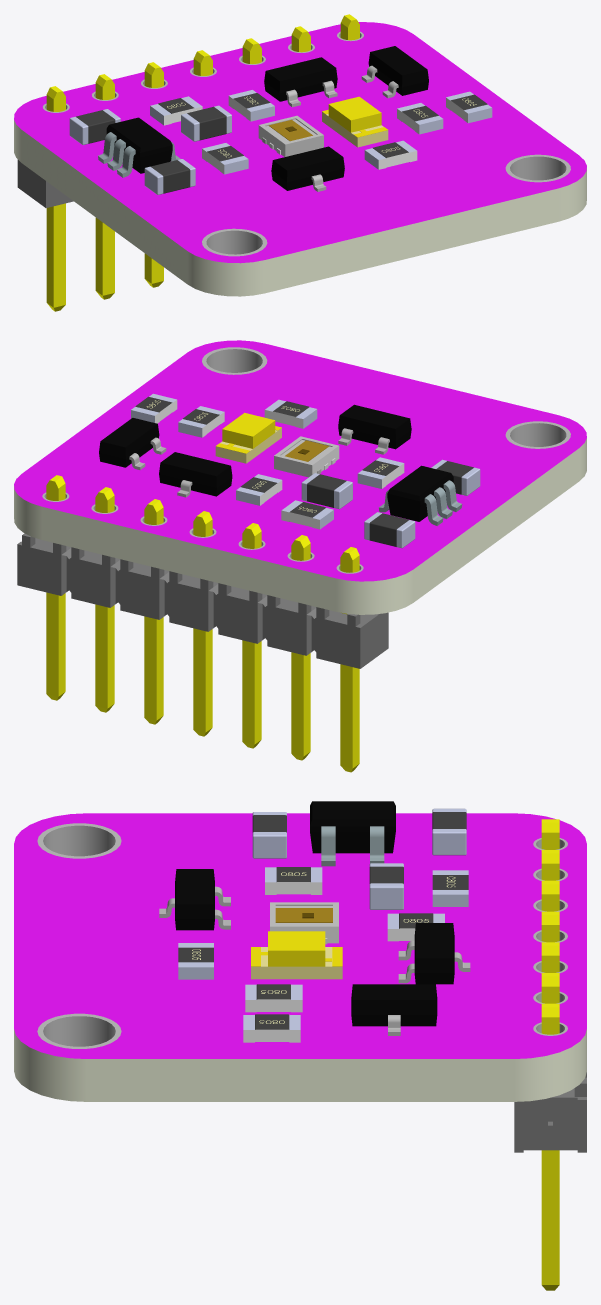
Rendered from TCS34725 RGB sensor.glb.
3 views of the same model, one above another, from view 1: azimuth 30°, elevation 25°; view 2: azimuth 150°, elevation 25°; view 3: azimuth 270°, elevation 25° (orthographic). The views are drawn at different scales.
Visible parts, largest first — view 1: TCS34725 RGB sensor; view 2: TCS34725 RGB sensor; view 3: TCS34725 RGB sensor.
Part boxes in pixels (x1=…): TCS34725 RGB sensor: x1=14, y1=14, x2=586, y2=311; TCS34725 RGB sensor: x1=14, y1=340, x2=586, y2=772; TCS34725 RGB sensor: x1=14, y1=801, x2=586, y2=1290.
Size of the model in its own units: 0.0203 by 0.0115 by 0.02.
